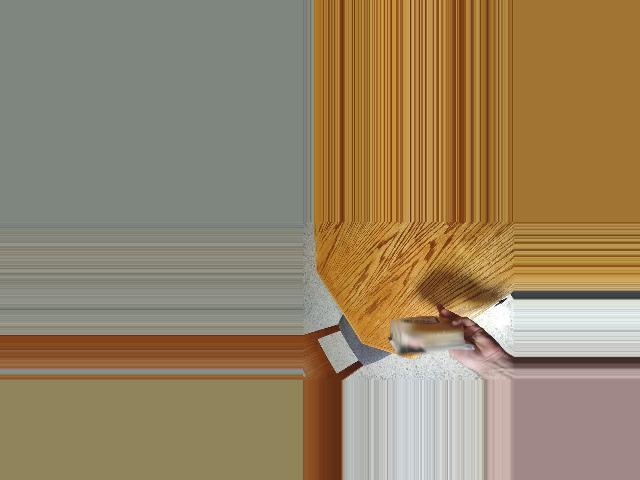cheese: (391, 307, 466, 362)
